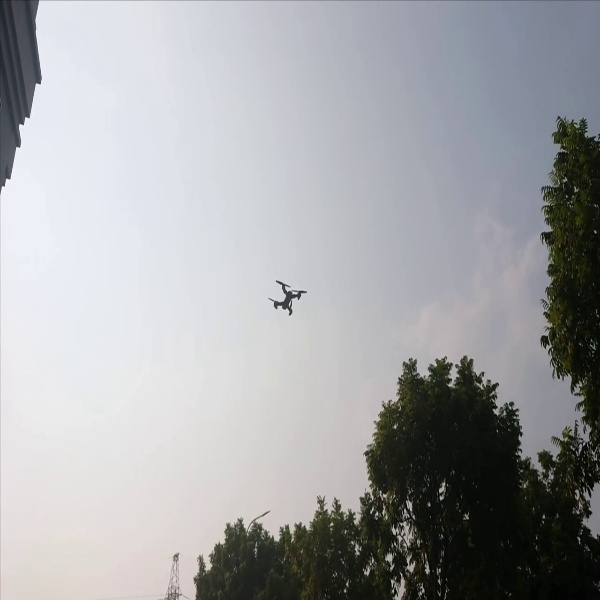drone: (262, 276, 313, 322)
